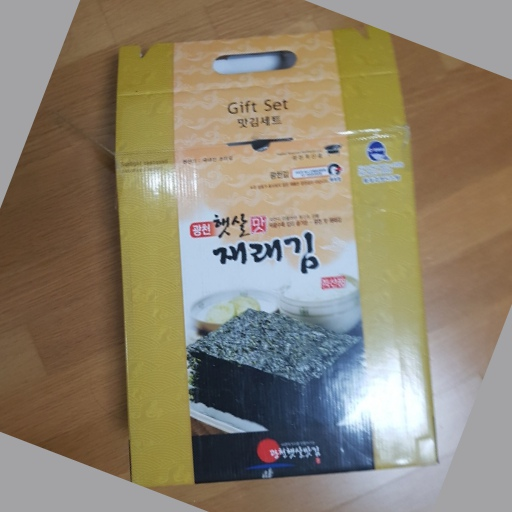Paper_0: (111, 26, 451, 489)
